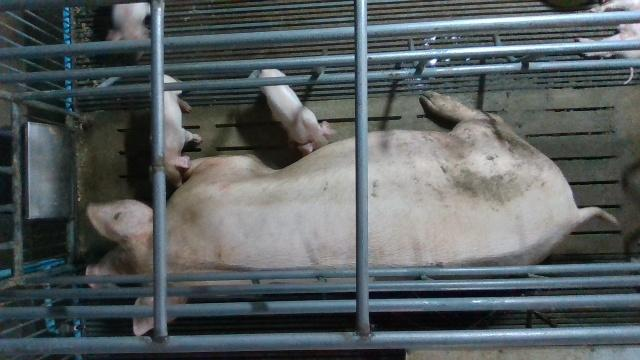piglet: (258, 67, 337, 155), (149, 75, 200, 187), (578, 0, 640, 83), (108, 4, 152, 61)
sow-sleep: (85, 90, 618, 337)
